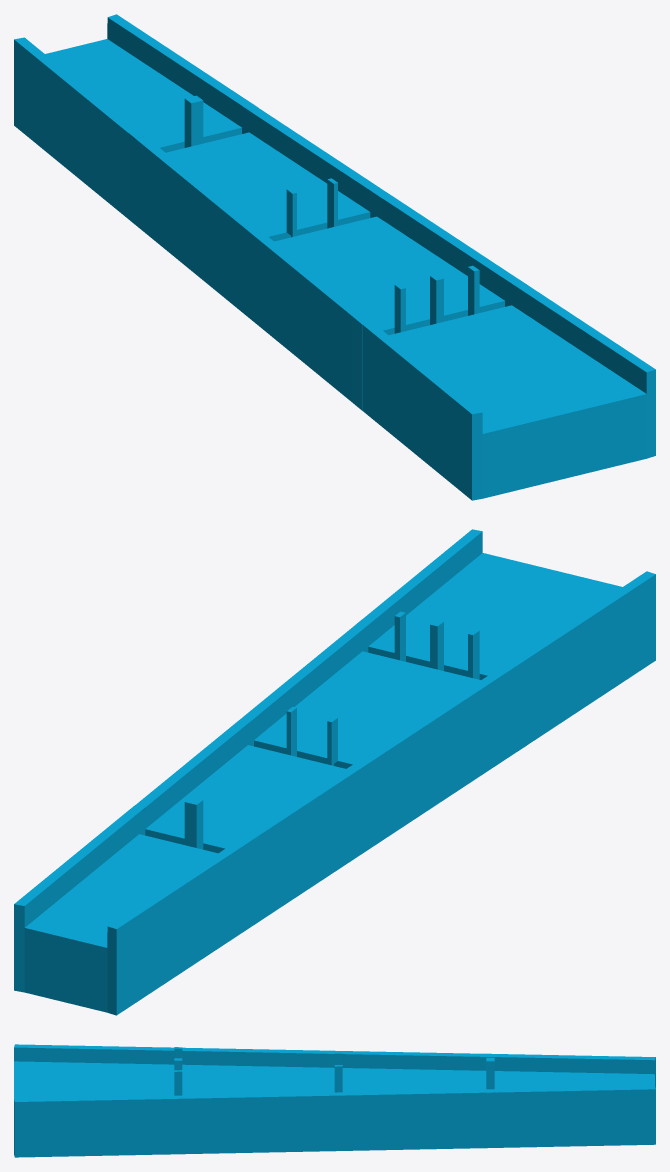
The model's file is level1.fbx.
The picture shows the model from 3 angles, top to bottom: view 1: azimuth 30°, elevation 25°; view 2: azimuth 150°, elevation 25°; view 3: azimuth 270°, elevation 25°; orthographic projection. The views are drawn at different scales.
Visible parts, largest first — view 1: Cube; view 2: Cube; view 3: Cube.
Boxes of the visible parts, left/top/right/bottom form: Cube: left=14, top=14, right=655, bottom=500; Cube: left=14, top=529, right=655, bottom=1015; Cube: left=14, top=1044, right=655, bottom=1157.
Bounding box in the file's own units: 892 × 500 × 4195.
